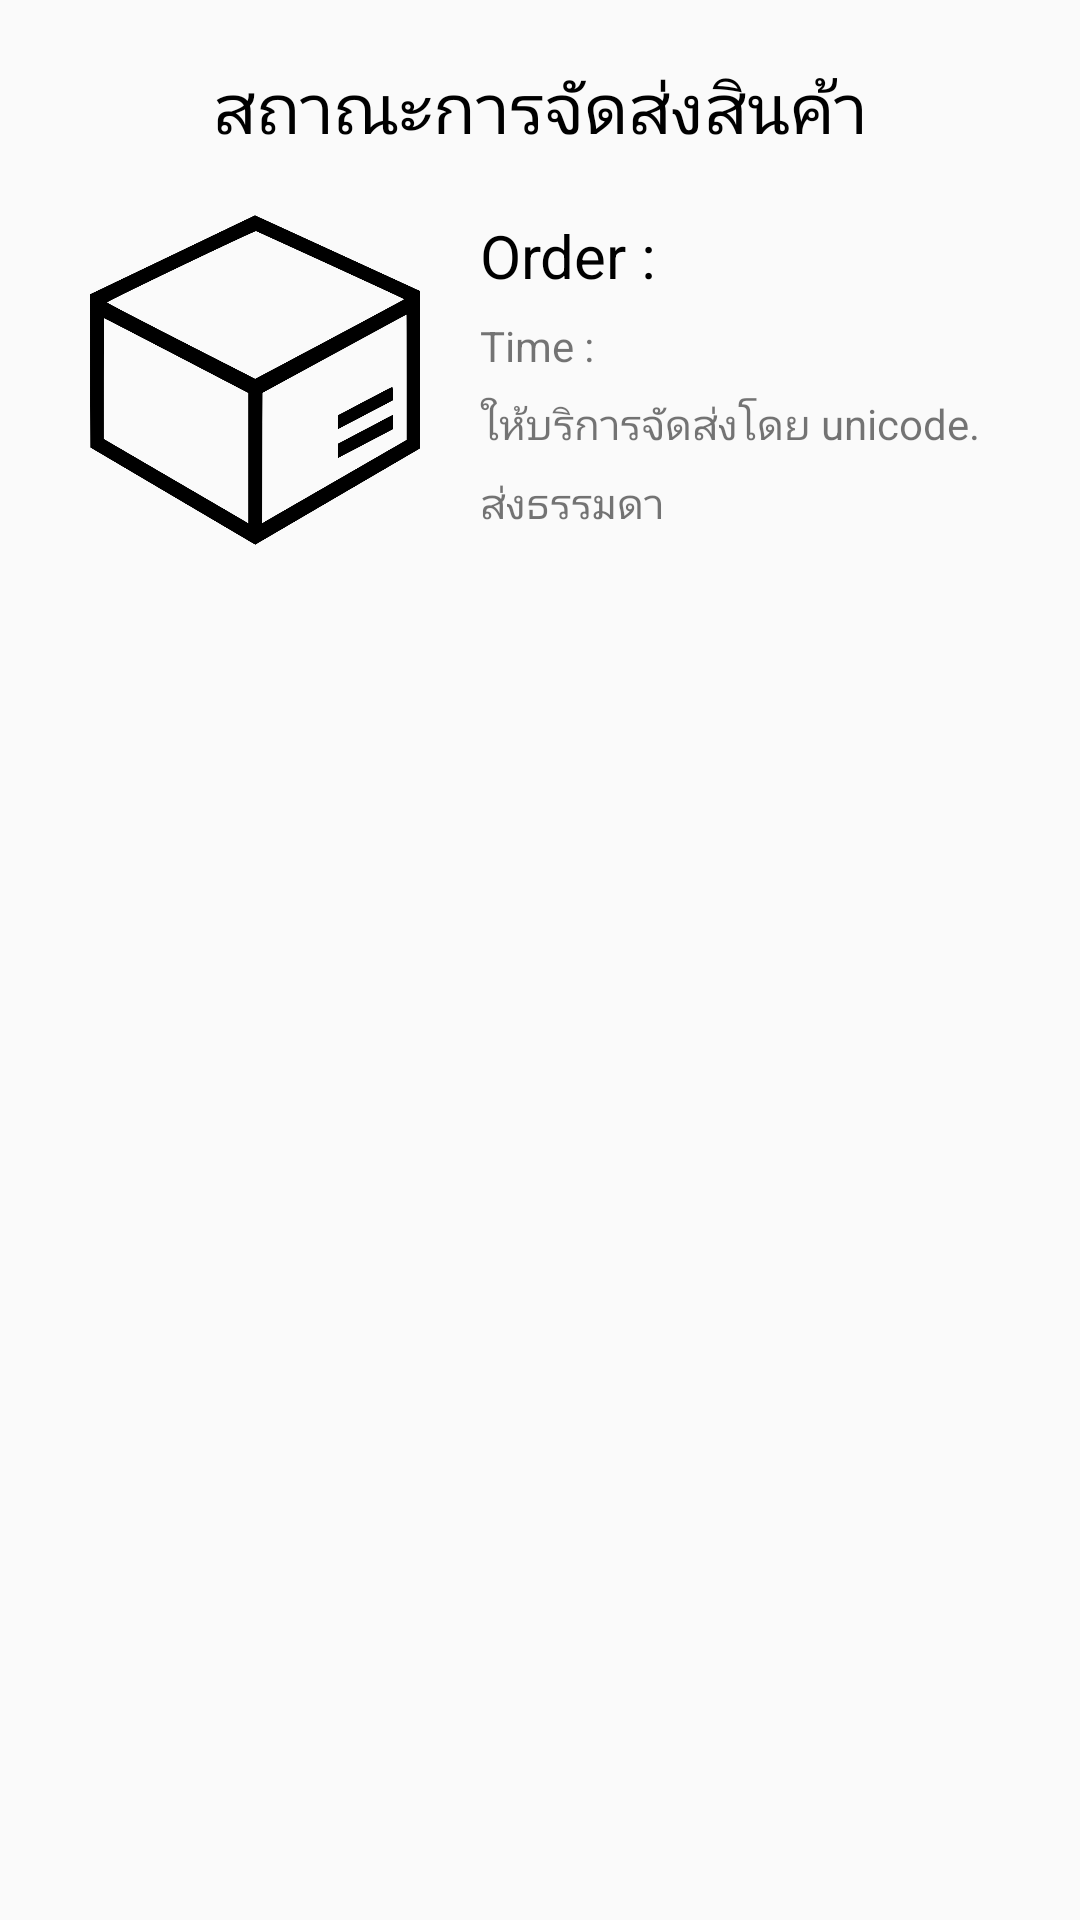

Where to tap for icons on this 1080w x 1920h app screen, as (x=x, y=y):
boxpng: (x=255, y=380)
